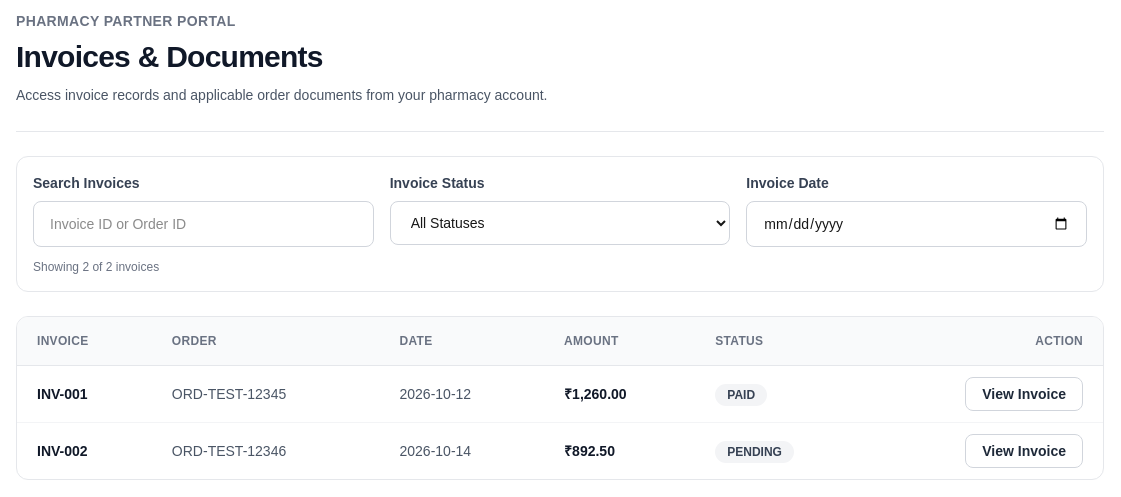
Test: Invoice page integration › filters invoices by search and status
In the search field labelled "Search Invoices": coordinates (203, 224) [33,201,374,247], type "INV-002"
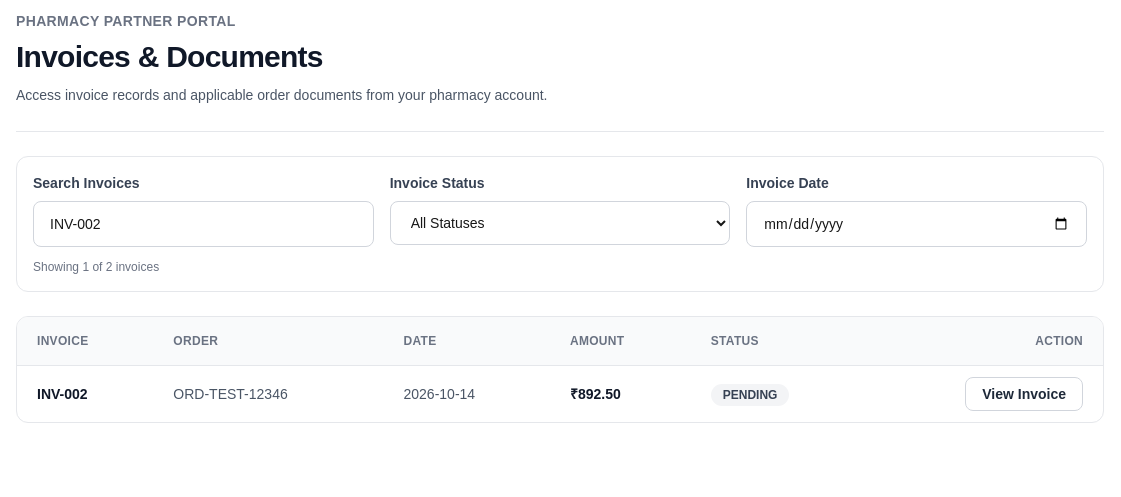
Check: the text "INV-002" is shown, box [17,366,153,422]
Check: the text "INV-001" is gone
Clear the search field labelled "Search Invoices": coordinates (203, 224) [33,201,374,247]
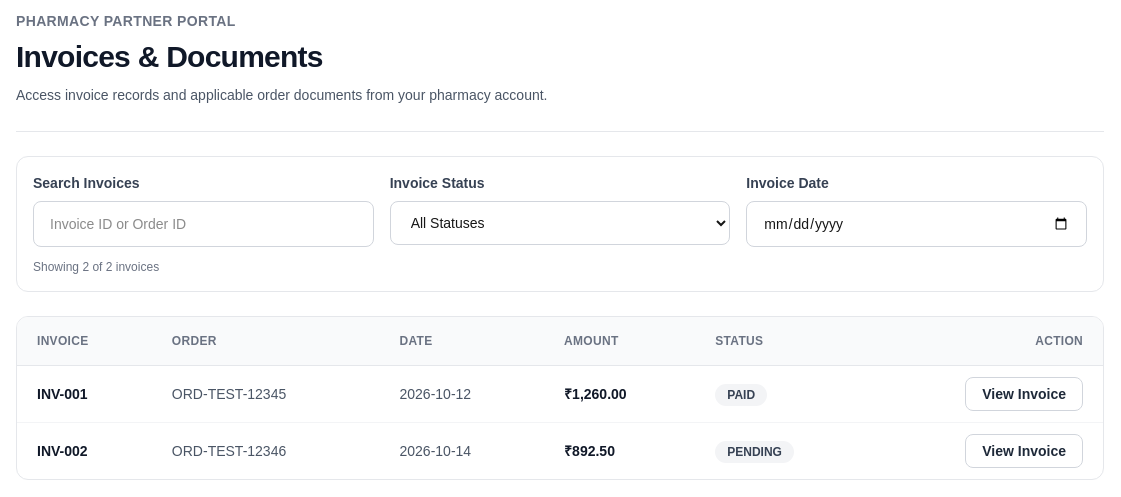
Select "PAID" in the dropdown labelled "Invoice Status": coordinates (560, 223) [390,201,730,245]
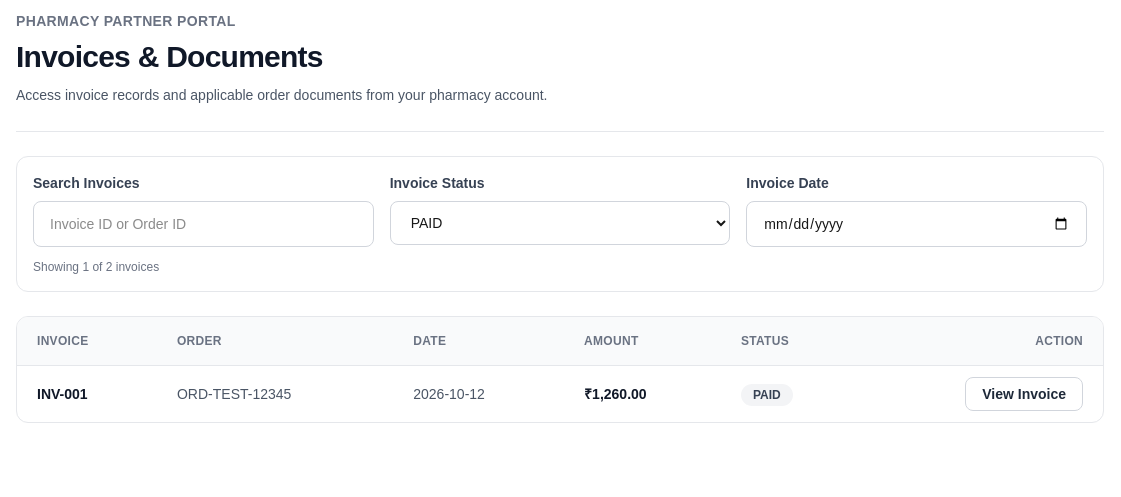
Check: the text "INV-001" is shown, box [17,366,157,422]
Check: the text "INV-002" is gone
